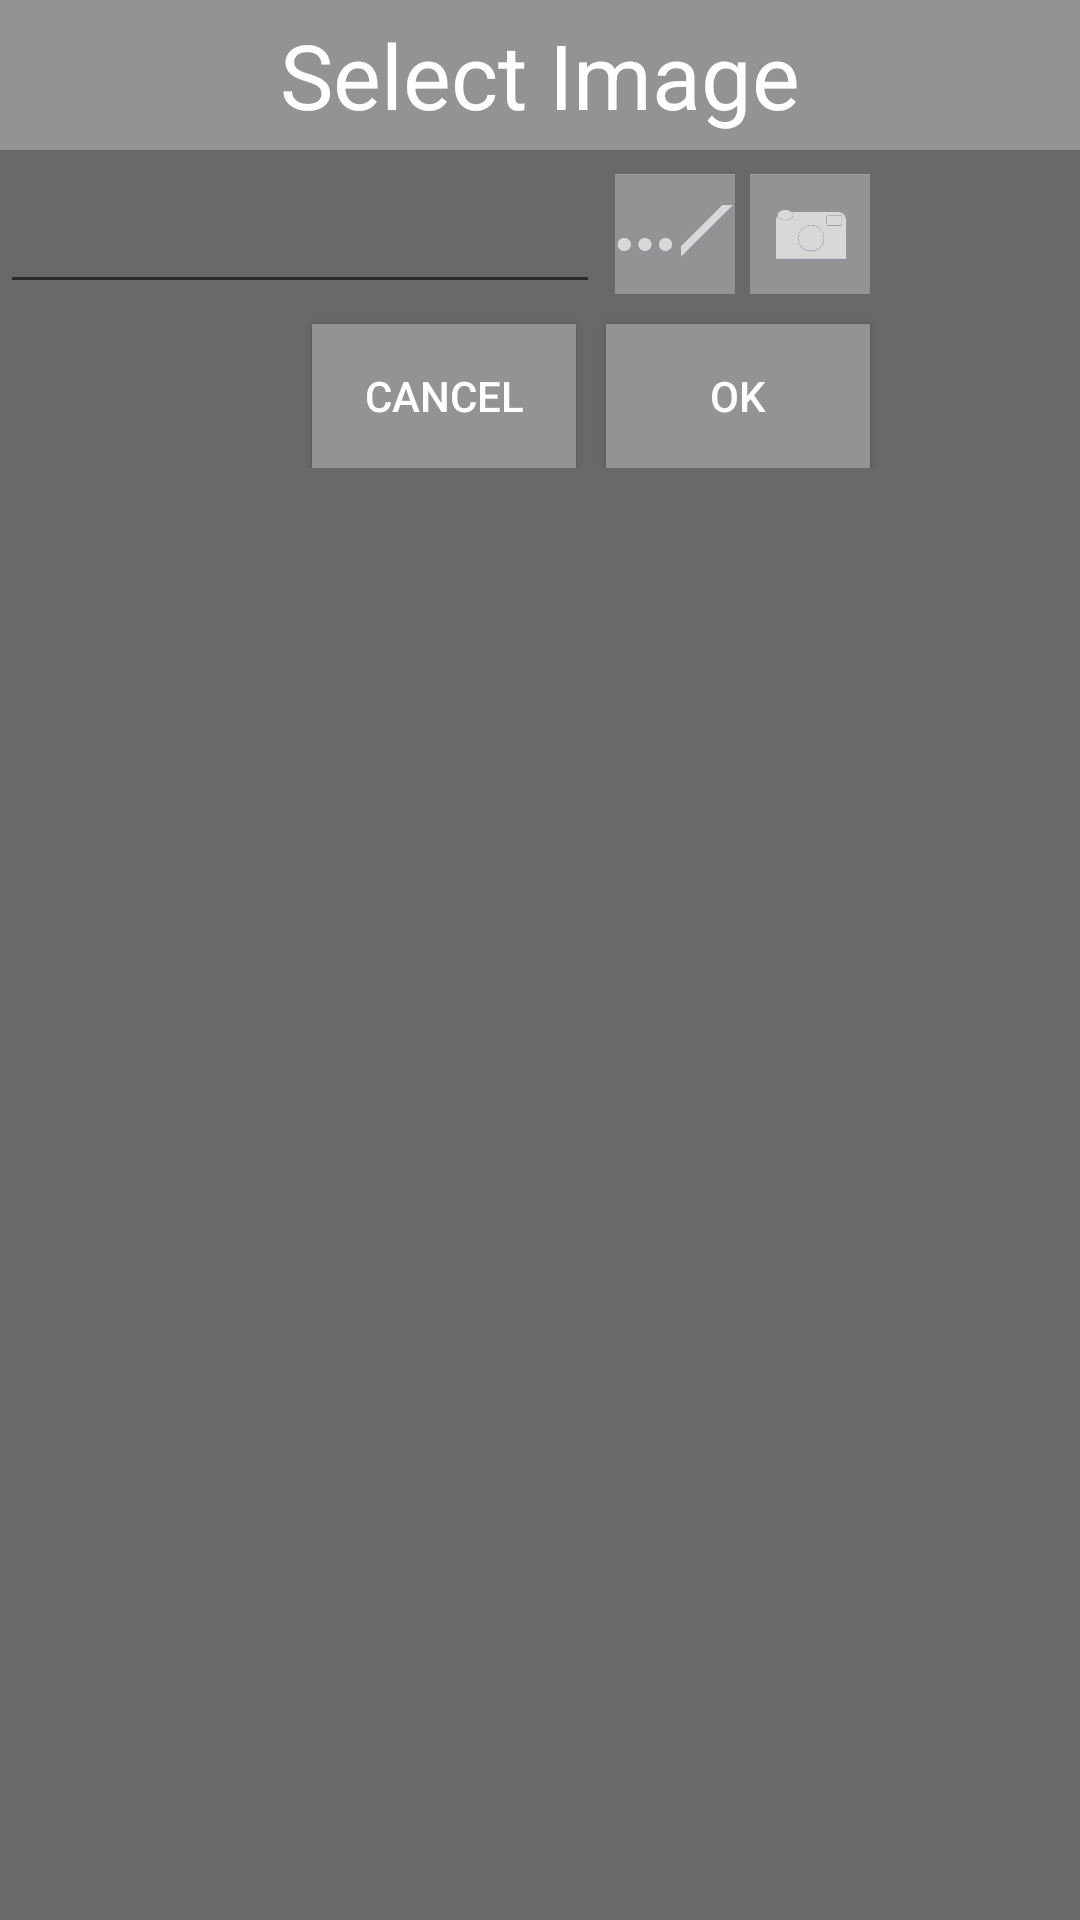

Locate icon controls on the screen. Image size 1080x1920, boxes as {"left": x1, "top": y1, "right": x2, "bottom": y2}.
camera: {"left": 750, "top": 174, "right": 870, "bottom": 294}
